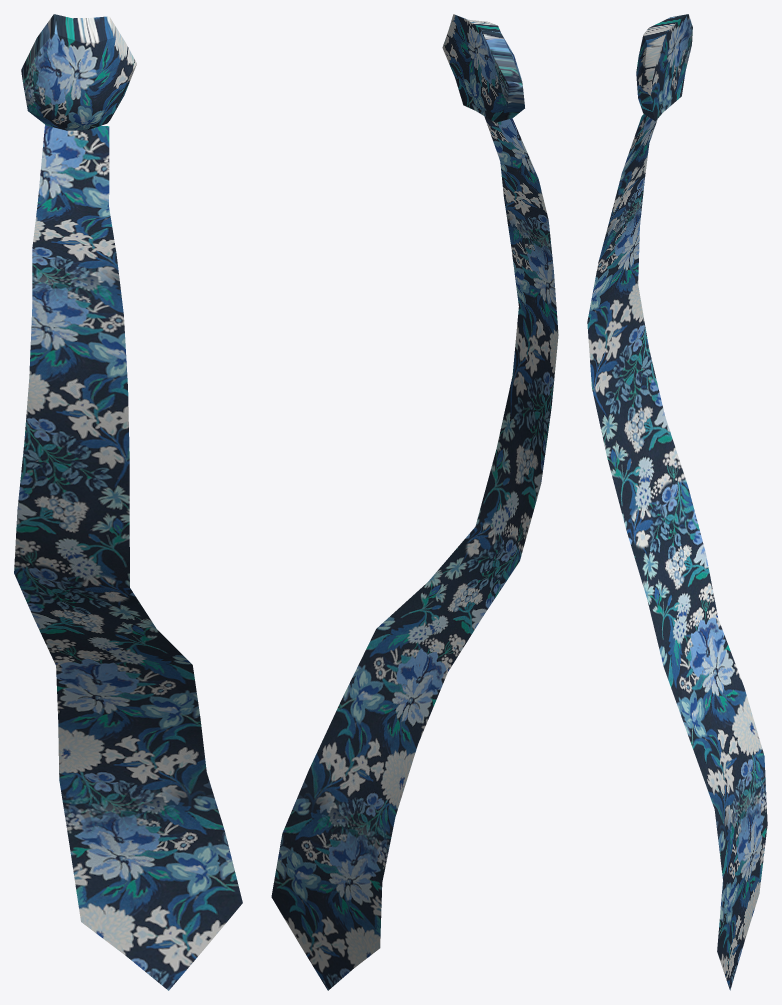
The model's file is Pose-9_SuitTie-2.fbx.
3 renders of one model, left to right at view 1: azimuth 30°, elevation 25°; view 2: azimuth 150°, elevation 25°; view 3: azimuth 270°, elevation 25°, orthographic. The views are drawn at different scales.
Visible parts, largest first — view 1: Pose-9_SuitTie-2; view 2: Pose-9_SuitTie-2; view 3: Pose-9_SuitTie-2.
Part boxes in pixels (box(x1,y1,x2,y2)): Pose-9_SuitTie-2: box(14, 14, 242, 990); Pose-9_SuitTie-2: box(271, 14, 558, 990); Pose-9_SuitTie-2: box(587, 14, 767, 990).
Bounding box in the file's own units: 12.64 × 48.16 × 8.58.
